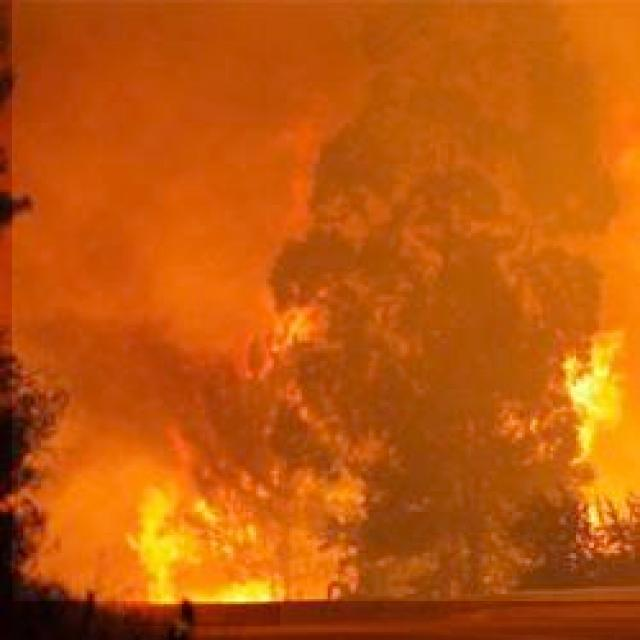Fire: (124, 474, 280, 626), (543, 336, 640, 476), (266, 305, 348, 386), (568, 501, 614, 530)
Smoke: (12, 0, 640, 601)
